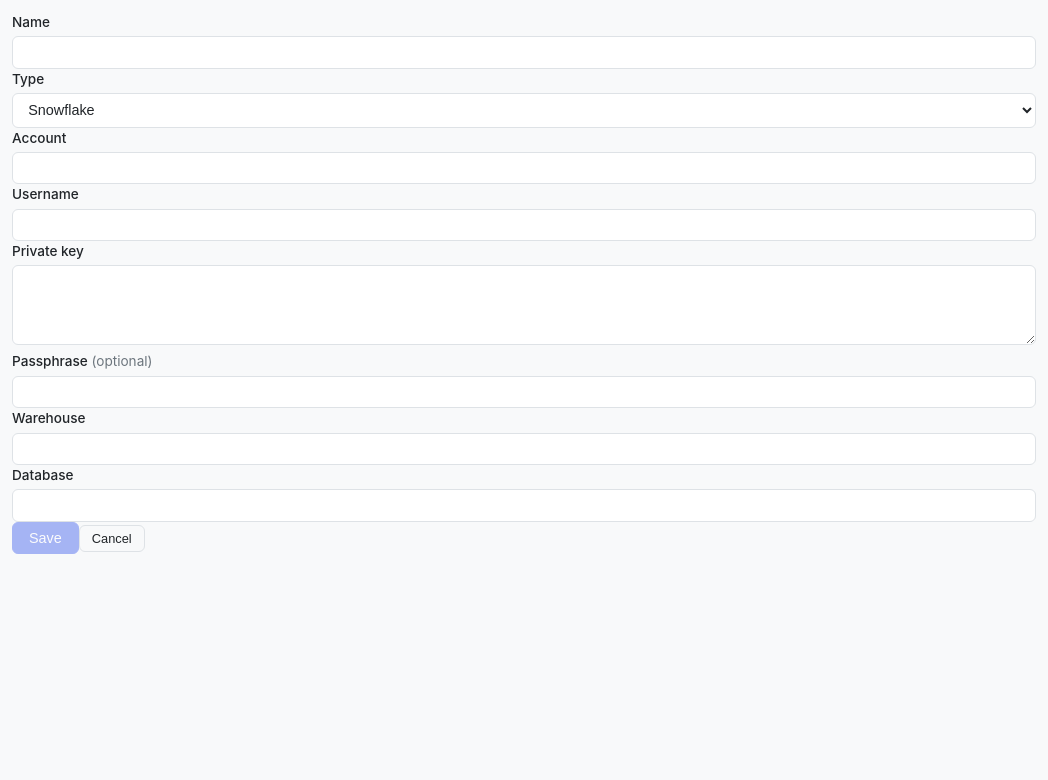
Scenario: ConnectionForm › shows claude fields when type=claude
Select "Claude" in the dropdown labelled "Type": (524, 110) [12,93,1036,128]
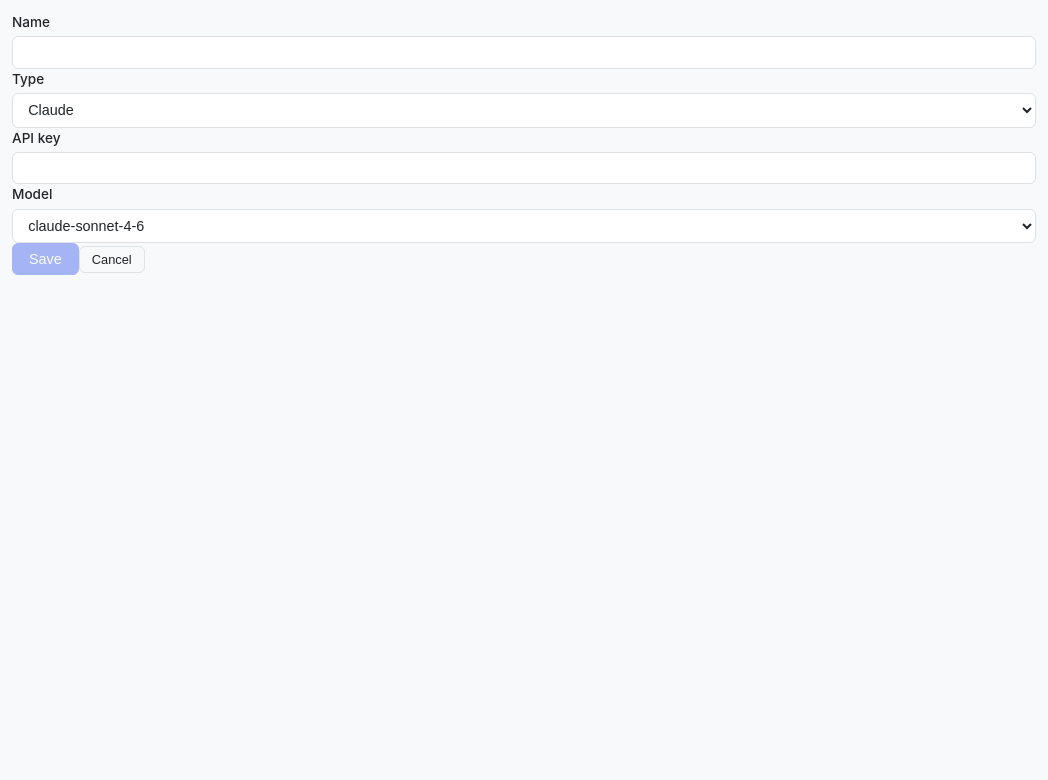
Expected: the password field labelled "API key" is shown, [12,152,1036,184]
Result: the dropdown labelled "Model" is shown at [12,209,1036,243]
Result: the label labelled "Account" is gone
